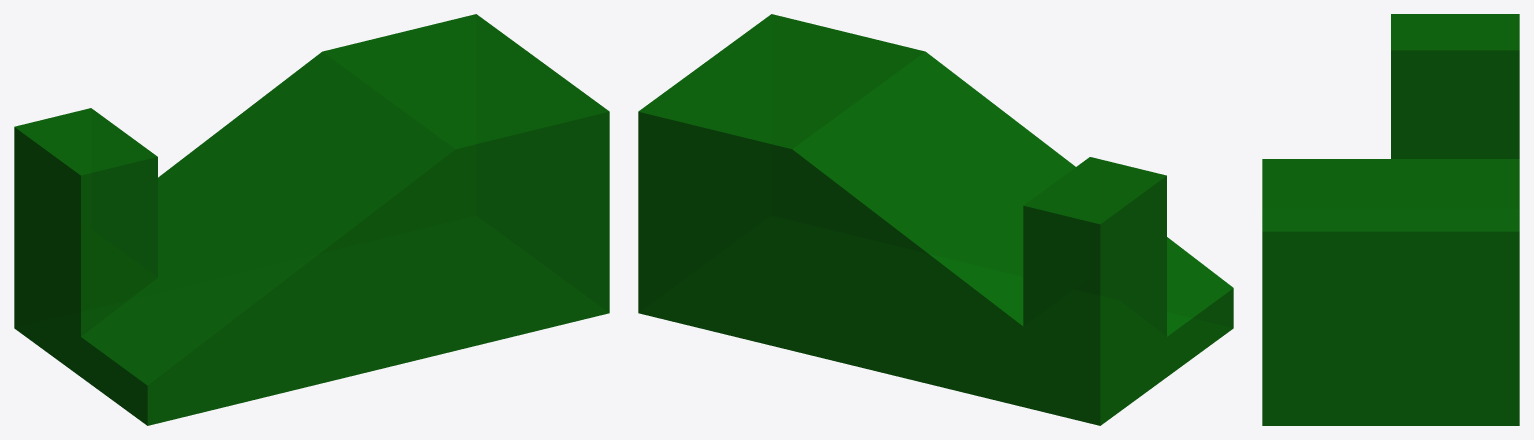
3 views of the same model, side by side, from view 1: azimuth 30°, elevation 25°; view 2: azimuth 150°, elevation 25°; view 3: azimuth 270°, elevation 25° (orthographic). The views are drawn at different scales.
Visible parts, largest first — view 1: SketchUp; view 2: SketchUp; view 3: SketchUp.
Boxes of the visible parts, bbox=[...] form: SketchUp: bbox=[14, 14, 609, 425]; SketchUp: bbox=[638, 14, 1233, 425]; SketchUp: bbox=[1262, 14, 1519, 425].
Bounding box in the file's own units: 2362 × 1181 × 984.
